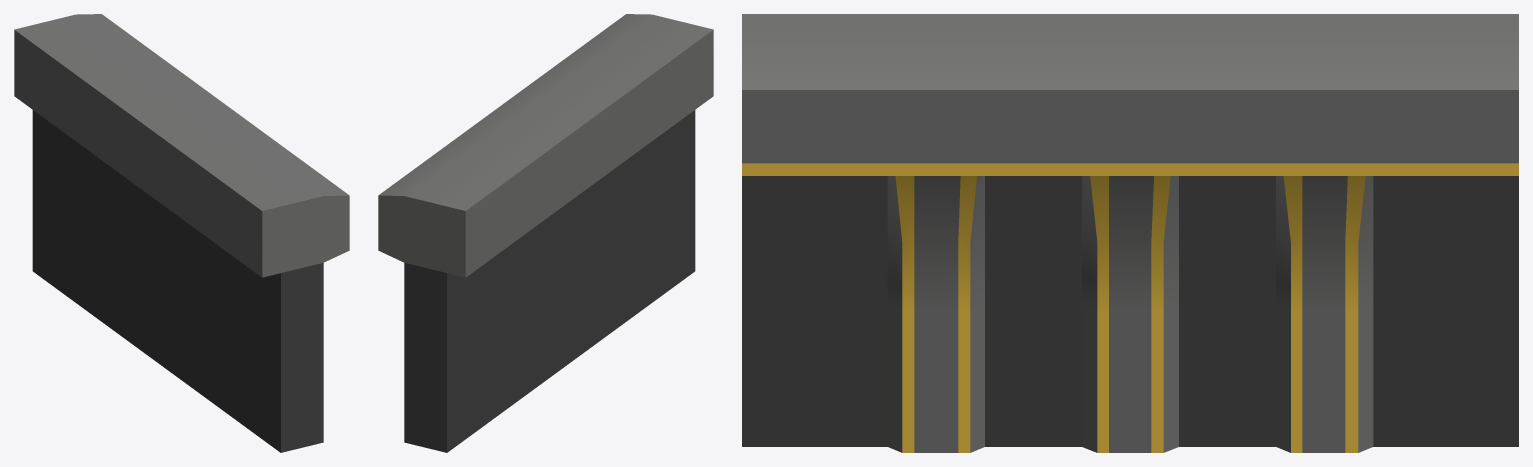
Rendered from Factory_SteelWall.fbx.
3 views of the same model, side by side, from view 1: azimuth 30°, elevation 25°; view 2: azimuth 150°, elevation 25°; view 3: azimuth 270°, elevation 25° (orthographic). The views are drawn at different scales.
Visible parts, largest first — view 1: FactoryWall; view 2: FactoryWall; view 3: FactoryWall.
Part boxes in pixels (x1,y1,x2,y2): FactoryWall: (14, 14, 349, 452); FactoryWall: (378, 14, 713, 452); FactoryWall: (742, 14, 1518, 452).
Size of the model in its own units: 20.39 by 54.82 by 100.
